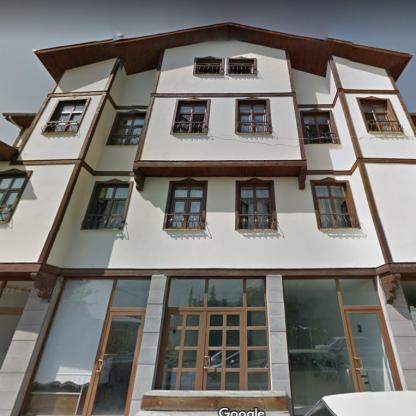door: (85, 310, 143, 415), (345, 310, 401, 390), (199, 311, 243, 390)
window: (28, 278, 149, 394), (283, 278, 380, 415), (157, 278, 268, 390), (85, 186, 130, 228), (316, 184, 352, 227), (168, 186, 204, 226), (239, 187, 270, 230), (48, 102, 86, 132), (0, 176, 26, 219), (361, 102, 394, 132), (112, 116, 145, 143), (304, 115, 335, 142), (176, 104, 207, 130), (240, 104, 267, 131), (197, 62, 220, 73), (230, 63, 252, 72)
